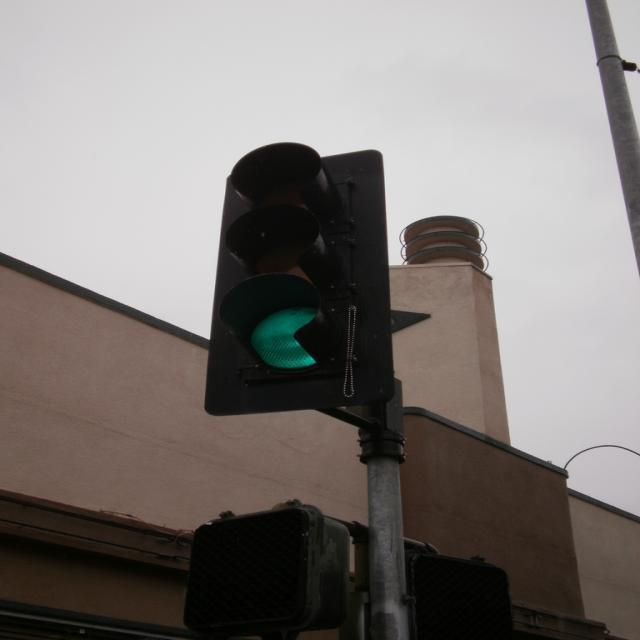traffic light: (207, 152, 385, 410)
